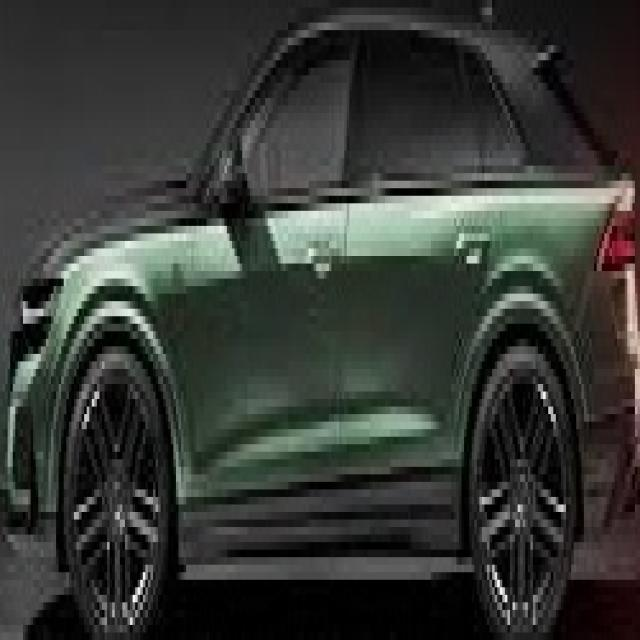green: (2, 20, 640, 640)
